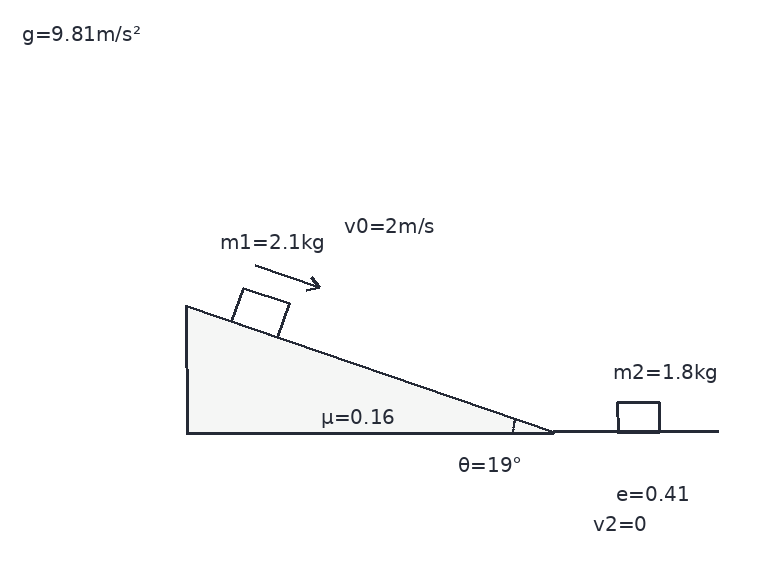block: (229, 285, 291, 339), (615, 399, 661, 434)
ramp: (184, 304, 555, 434)
